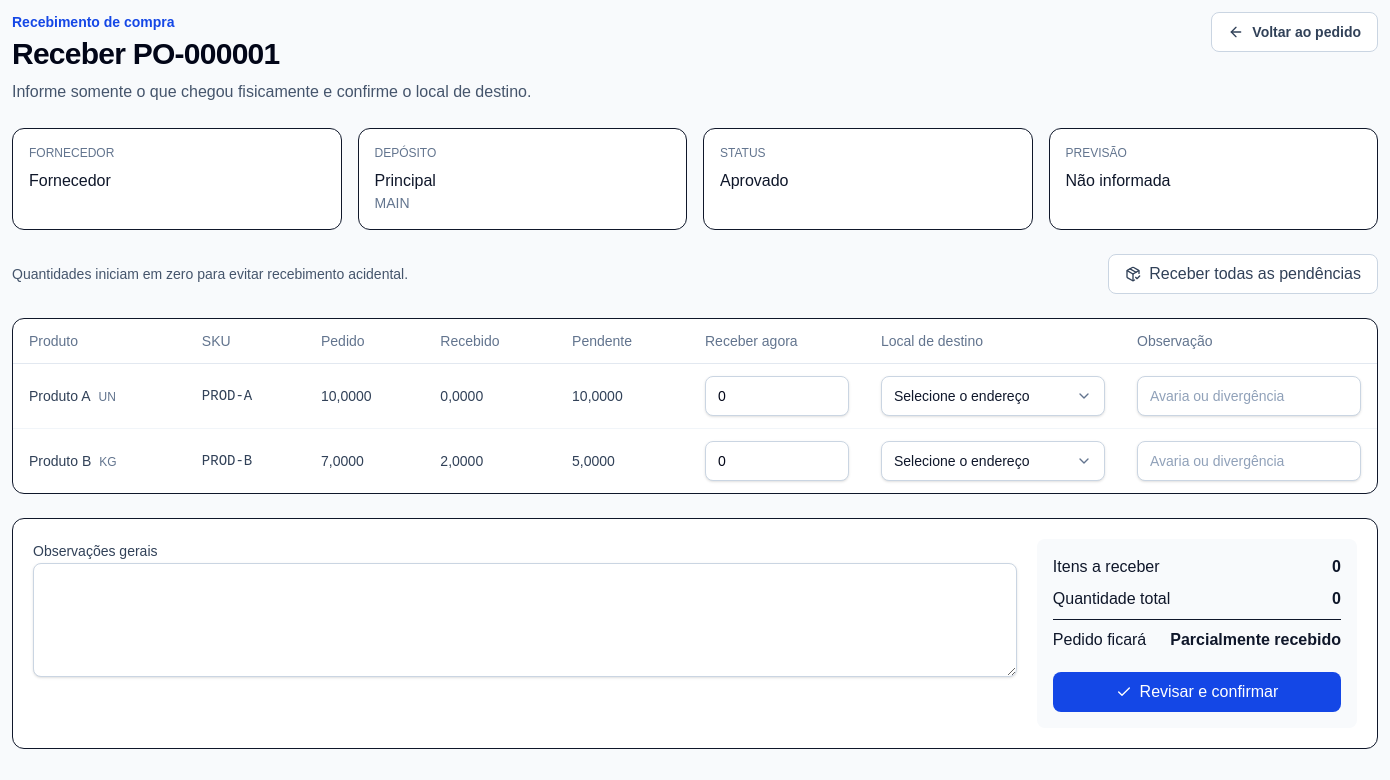
Test: PurchaseReceiptFormPage › preenche todas as pendências somente por ação explícita
Click the button "Receber todas as pendências" at [1243, 274], box [1108,254,1378,294]
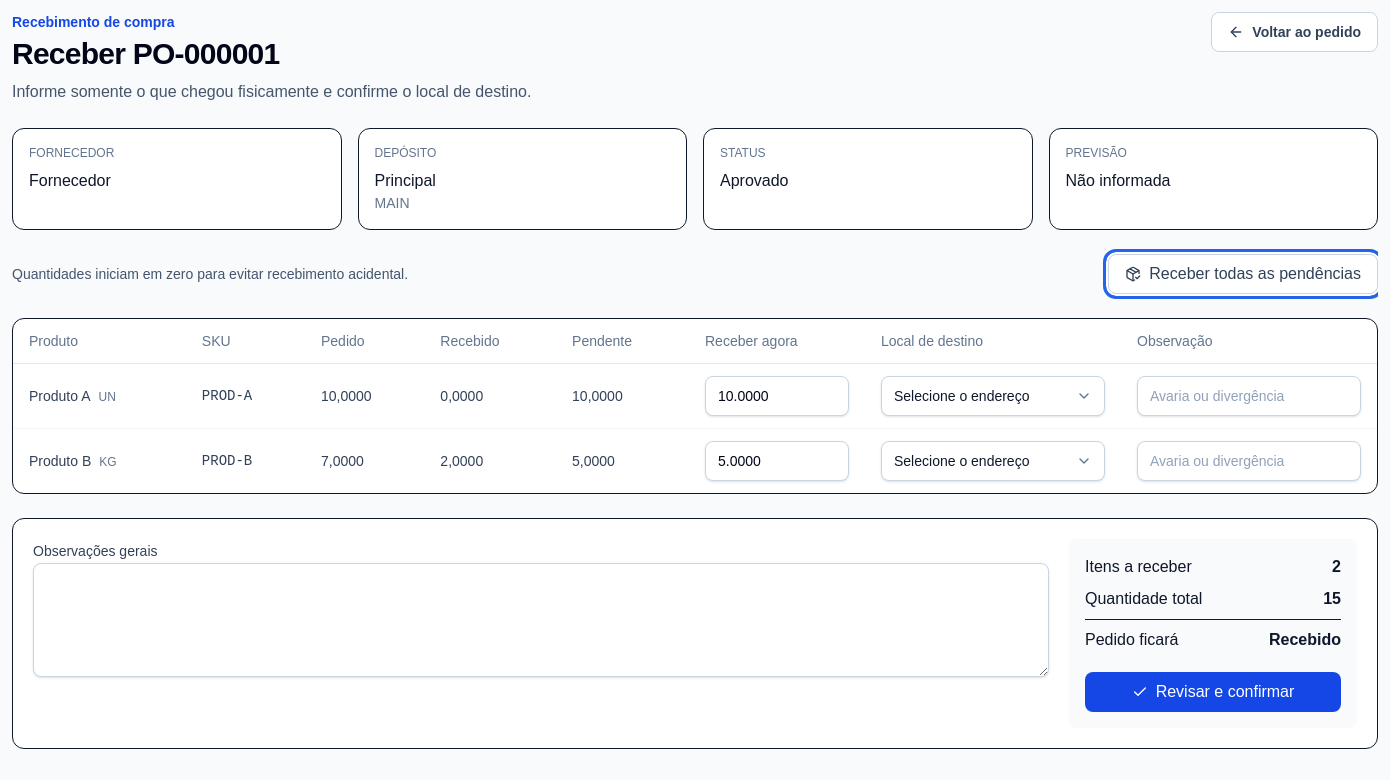
Expected: the text "Recebido" is shown, [1269,628,1341,652]
Expected: the field showing "10.0000" in the row of "Produto A" is shown, [705,376,849,416]
Expected: the field showing "5.0000" in the row of "Produto B" is shown, [705,440,849,480]
